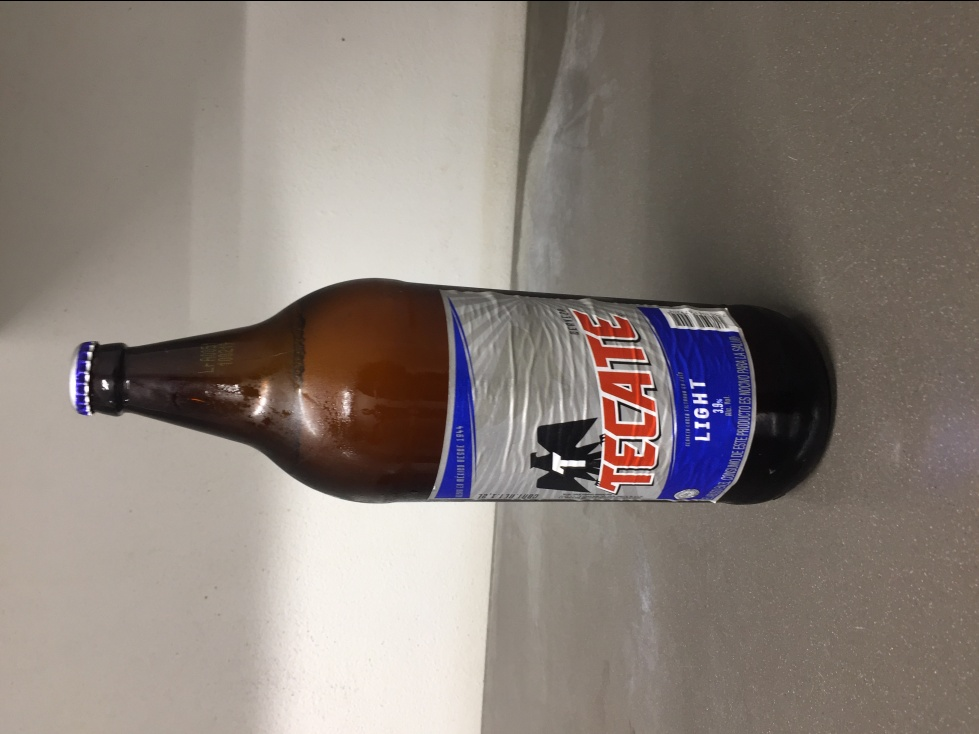tecateC: (66, 276, 834, 505)
